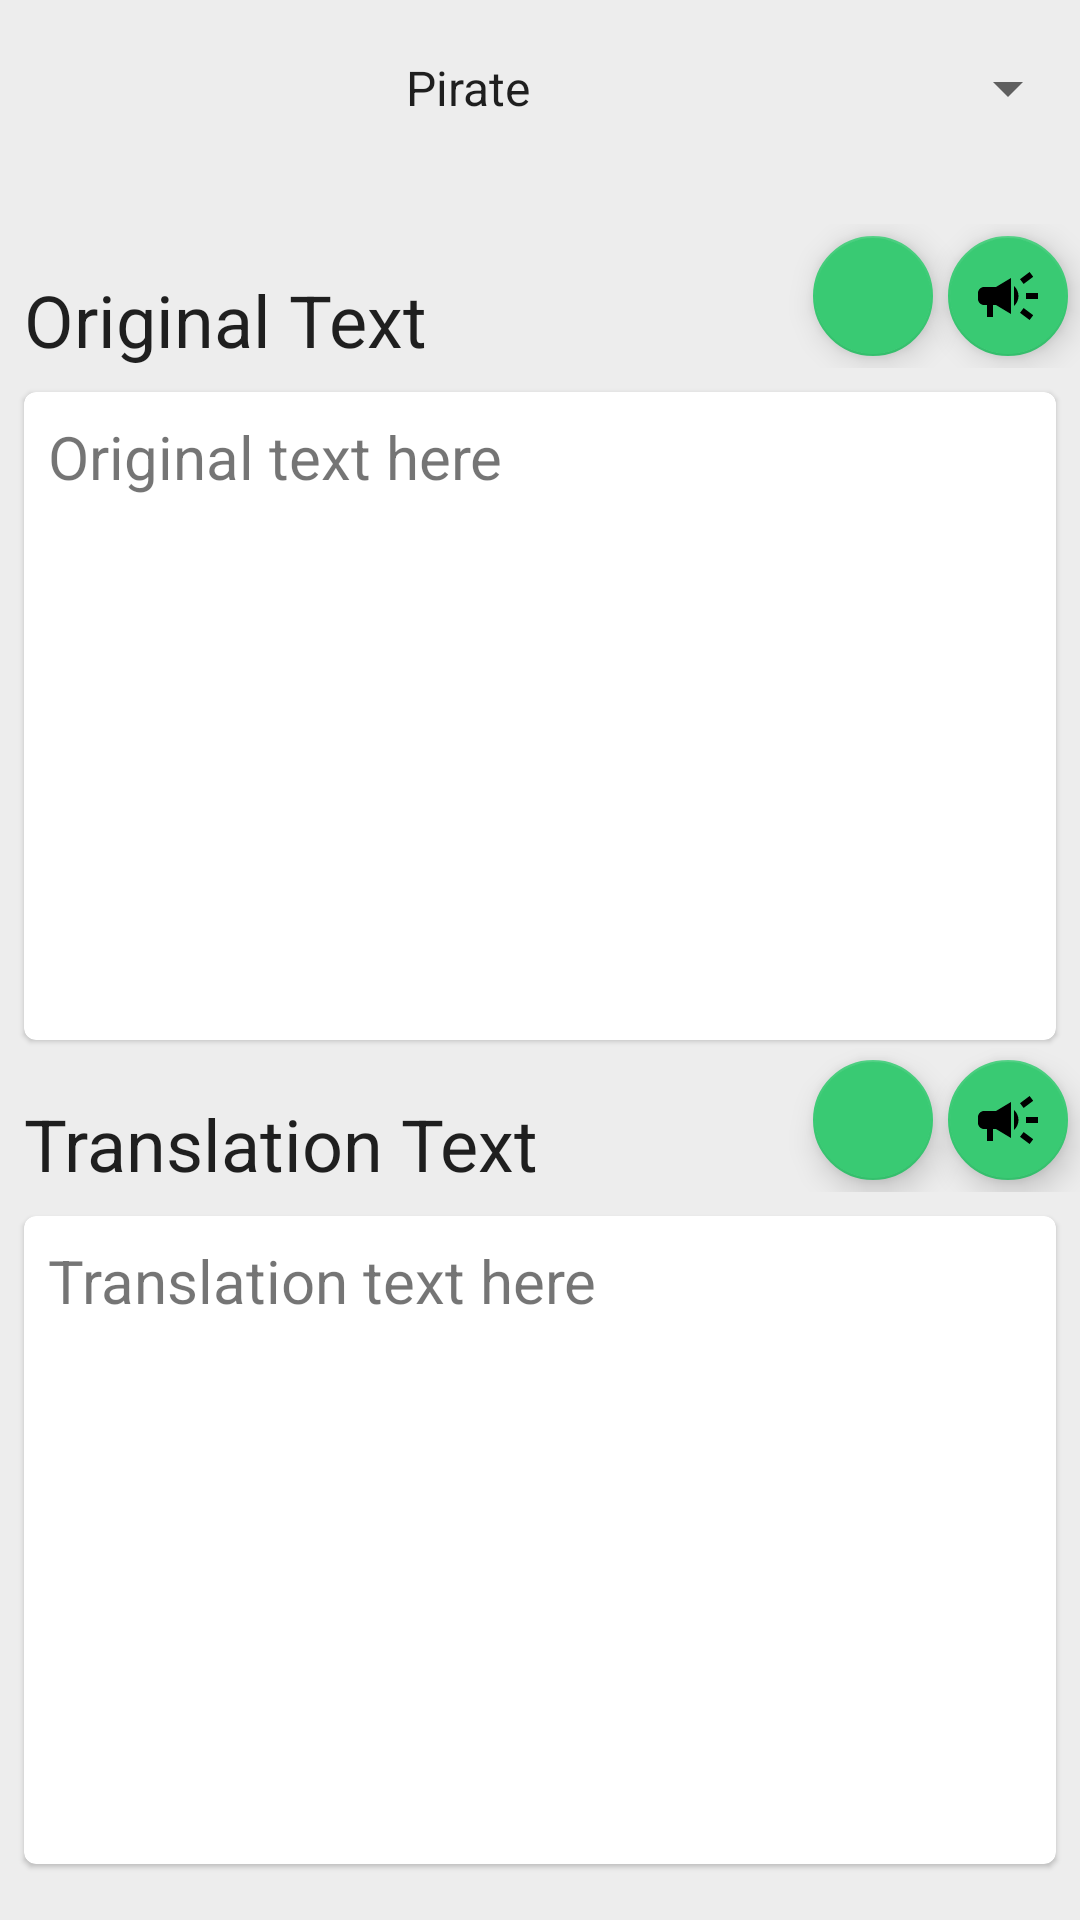

Where to tap for icons on this 1080px x 1920px app screen, as (x=x, y=y):
campaign: (x=1009, y=296), (x=1009, y=1123)
